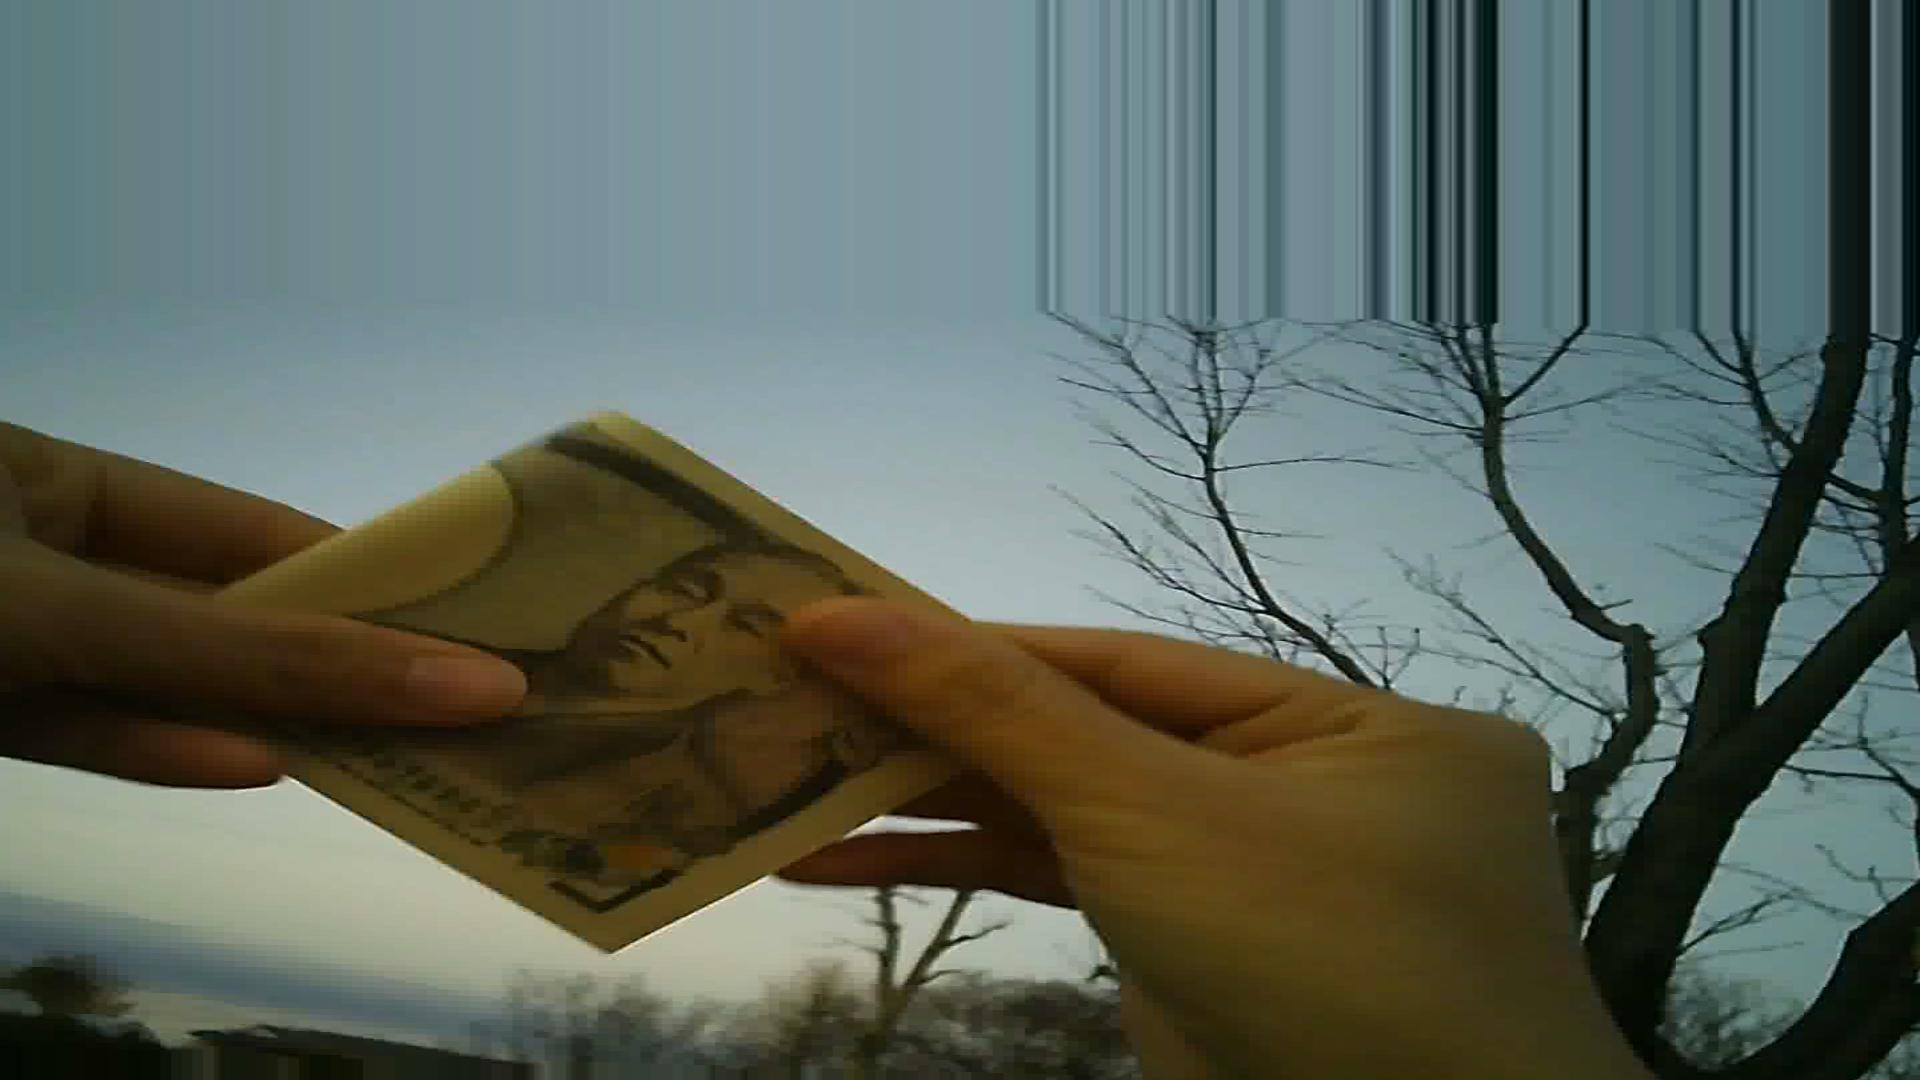10,000 Yen: (196, 400, 1060, 982)
